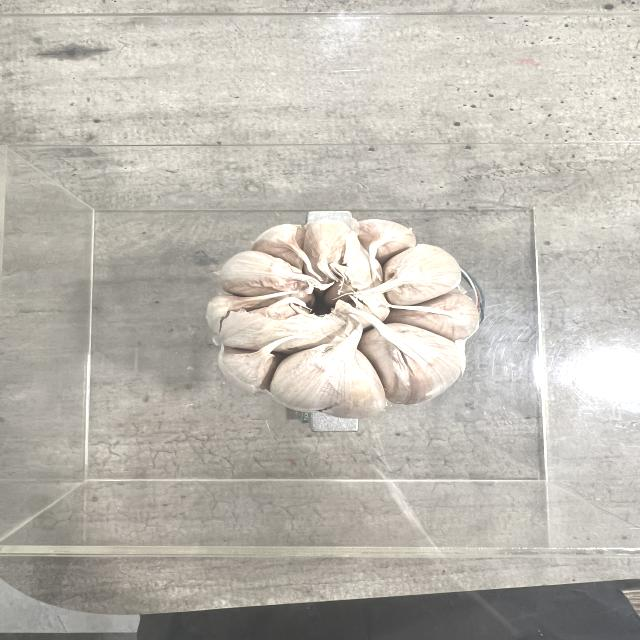garlic: (210, 220, 480, 416)
